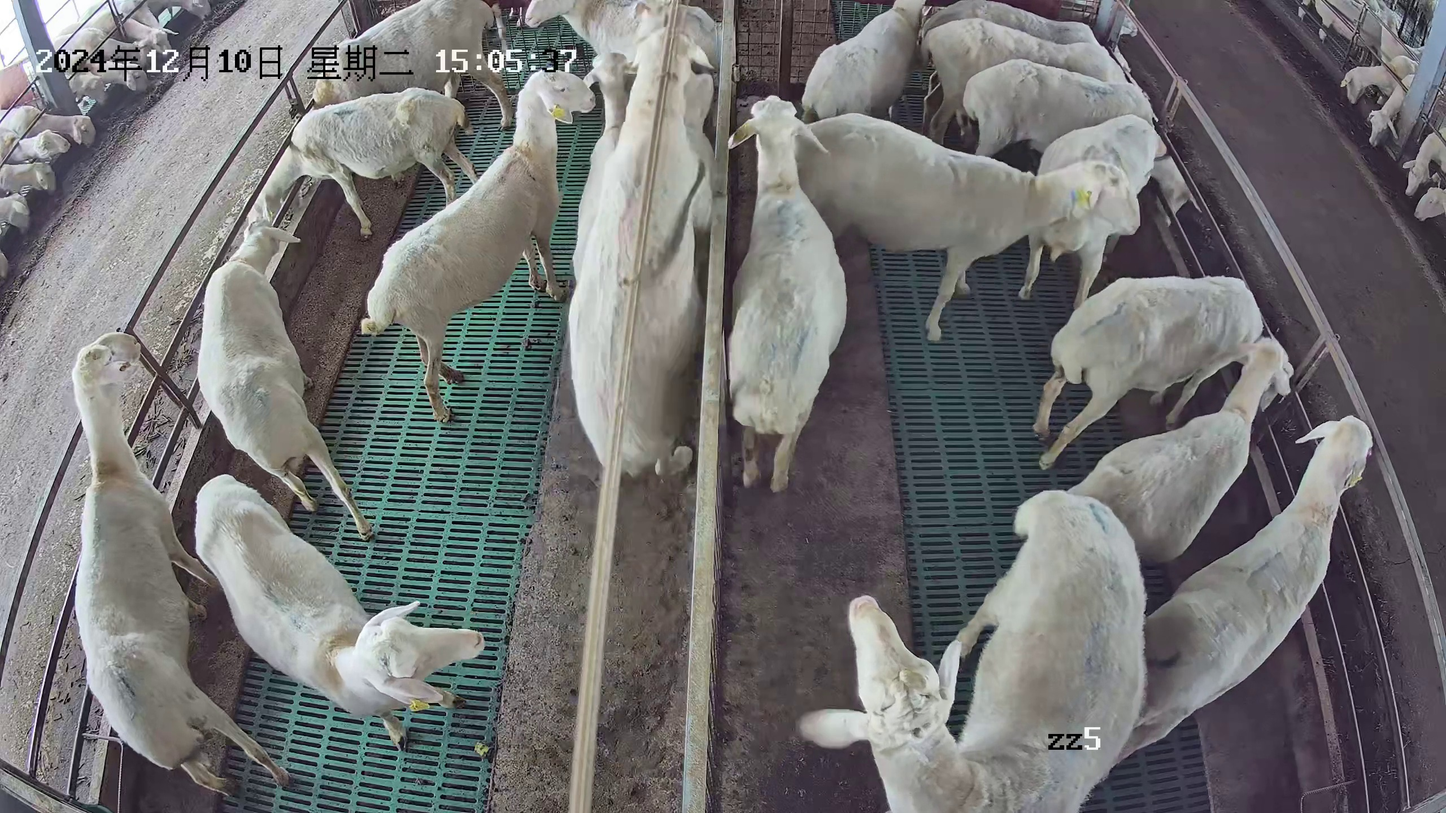Smounting: (567, 26, 716, 480)
mounted: (680, 65, 713, 254)
